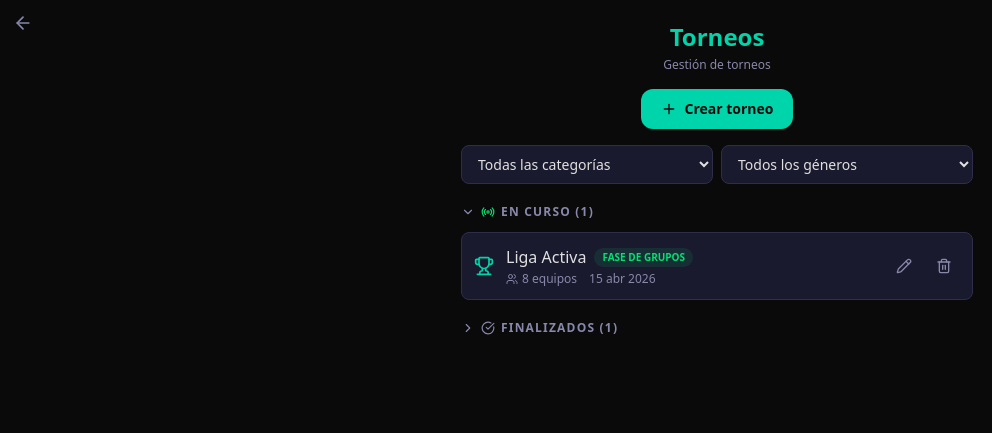
Test case: AdminTorneosPage › finished section is collapsed by default, active section is expanded
This screenshot has width=992, height=433.
Expected: the text "Liga Activa" is shown, [506, 245, 586, 269]
Expected: the text "Torneo Viejo" is not shown
Click the button "Finalizados (1)" at (548, 328), box [461, 316, 973, 340]
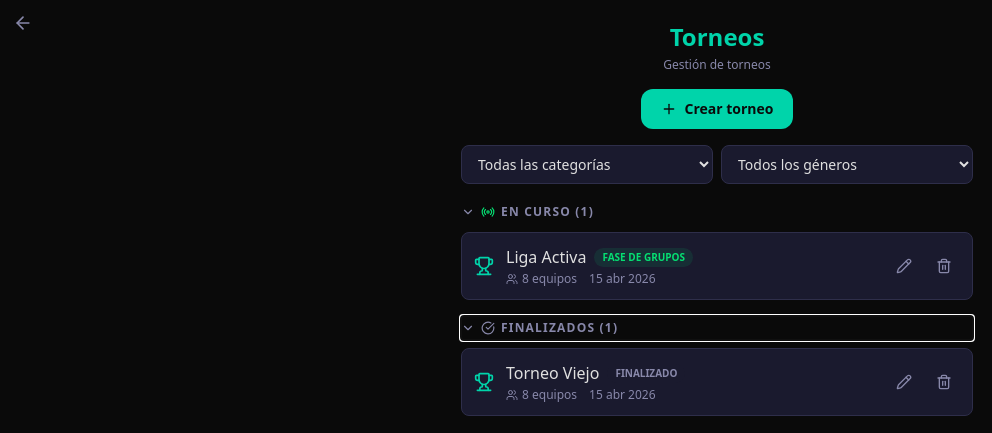
Expected: the text "Torneo Viejo" is shown, [506, 361, 599, 385]
